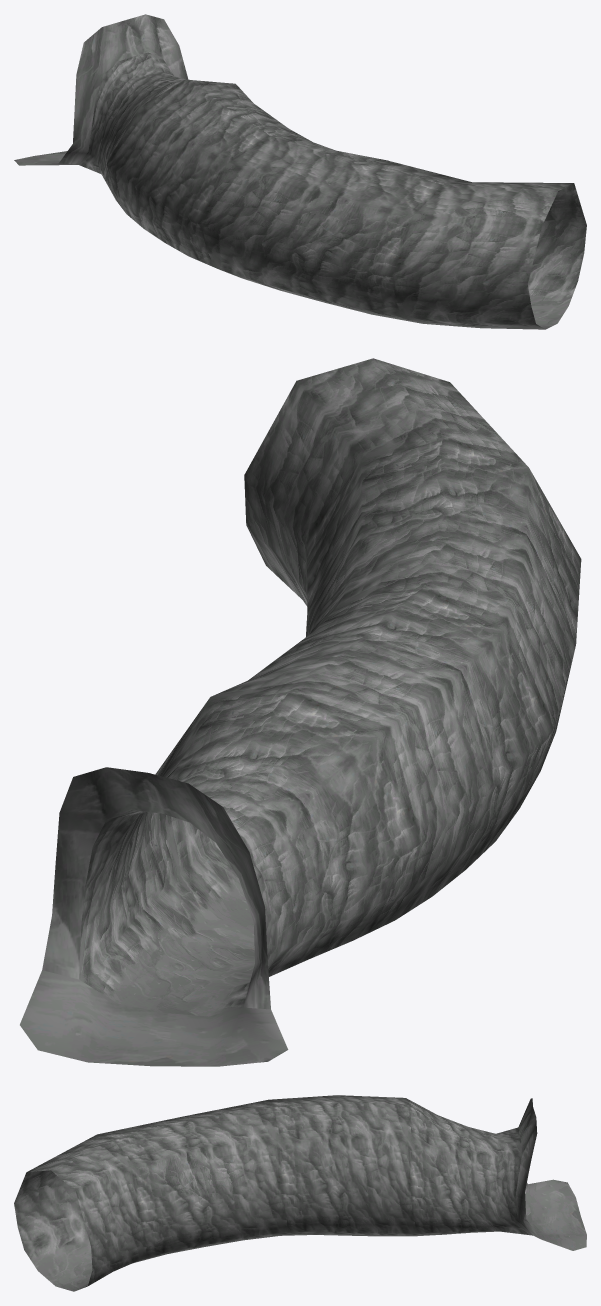
File: SWORDLIGHT20_PS-AREA03-05TRANS_04.fbx
The picture shows the model from 3 angles, top to bottom: view 1: azimuth 30°, elevation 25°; view 2: azimuth 150°, elevation 25°; view 3: azimuth 270°, elevation 25°; orthographic projection. The views are drawn at different scales.
Visible parts, largest first — view 1: SWORDLIGHT20_PS-AREA03-05TRANS_04; view 2: SWORDLIGHT20_PS-AREA03-05TRANS_04; view 3: SWORDLIGHT20_PS-AREA03-05TRANS_04.
Boxes of the visible parts, x1,y1,x2,y2 form: SWORDLIGHT20_PS-AREA03-05TRANS_04: [14, 14, 586, 329]; SWORDLIGHT20_PS-AREA03-05TRANS_04: [20, 358, 581, 1066]; SWORDLIGHT20_PS-AREA03-05TRANS_04: [14, 1095, 586, 1291].
Size of the model in its own units: 63524 by 30247 by 124534.
3 materials, 3 textured.
